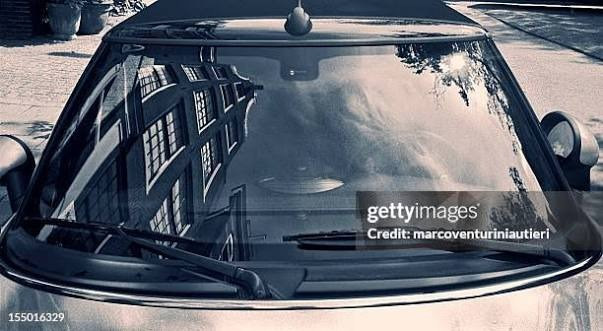car: (15, 6, 603, 326), (1, 3, 586, 324), (16, 6, 598, 326)
